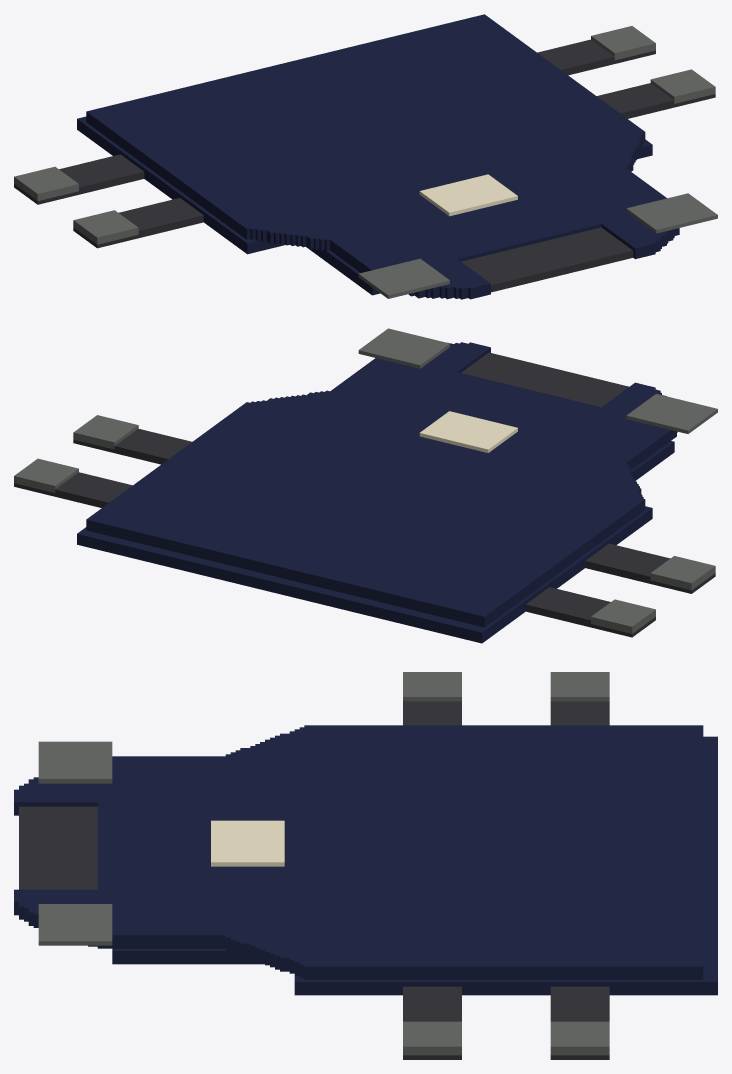
The model's file is kevlar.glb.
3 views of the same model, one above another, from view 1: azimuth 30°, elevation 25°; view 2: azimuth 150°, elevation 25°; view 3: azimuth 270°, elevation 25° (orthographic). The views are drawn at different scales.
Parts seen in each view (by area): view 1: kevlar:compound; view 2: kevlar:compound; view 3: kevlar:compound.
Boxes of the visible parts, x1,y1,x2,y2 form: kevlar:compound: (14,14,717,299); kevlar:compound: (14,328,717,643); kevlar:compound: (14,672,717,1059).
Bounding box in the file's own units: 0.72 × 0.028 × 0.572.
